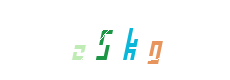5: (74, 0, 154, 80)
G: (112, 0, 192, 80)
K: (90, 0, 170, 80)
Z: (64, 0, 144, 80)
